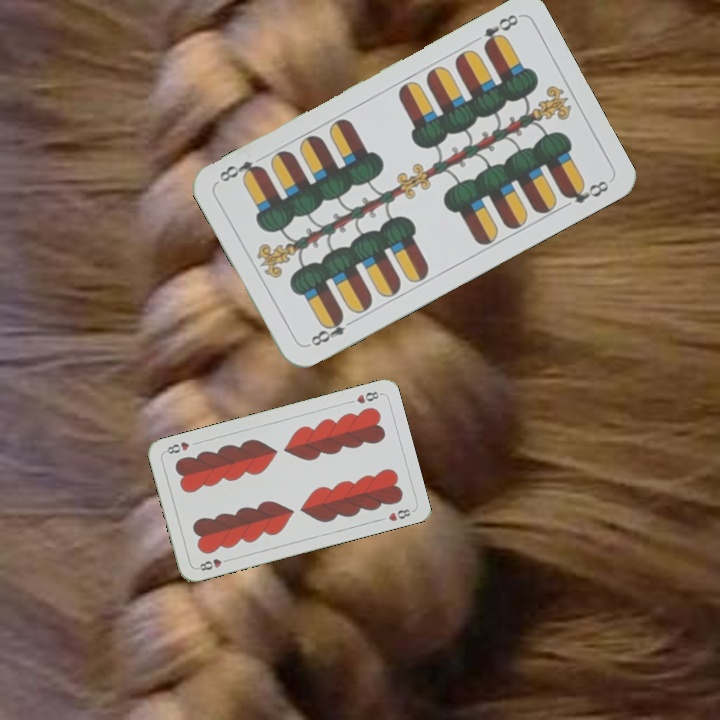E8: (303, 311, 358, 349), (479, 10, 521, 51)
H8: (193, 554, 233, 573), (352, 387, 383, 406)
